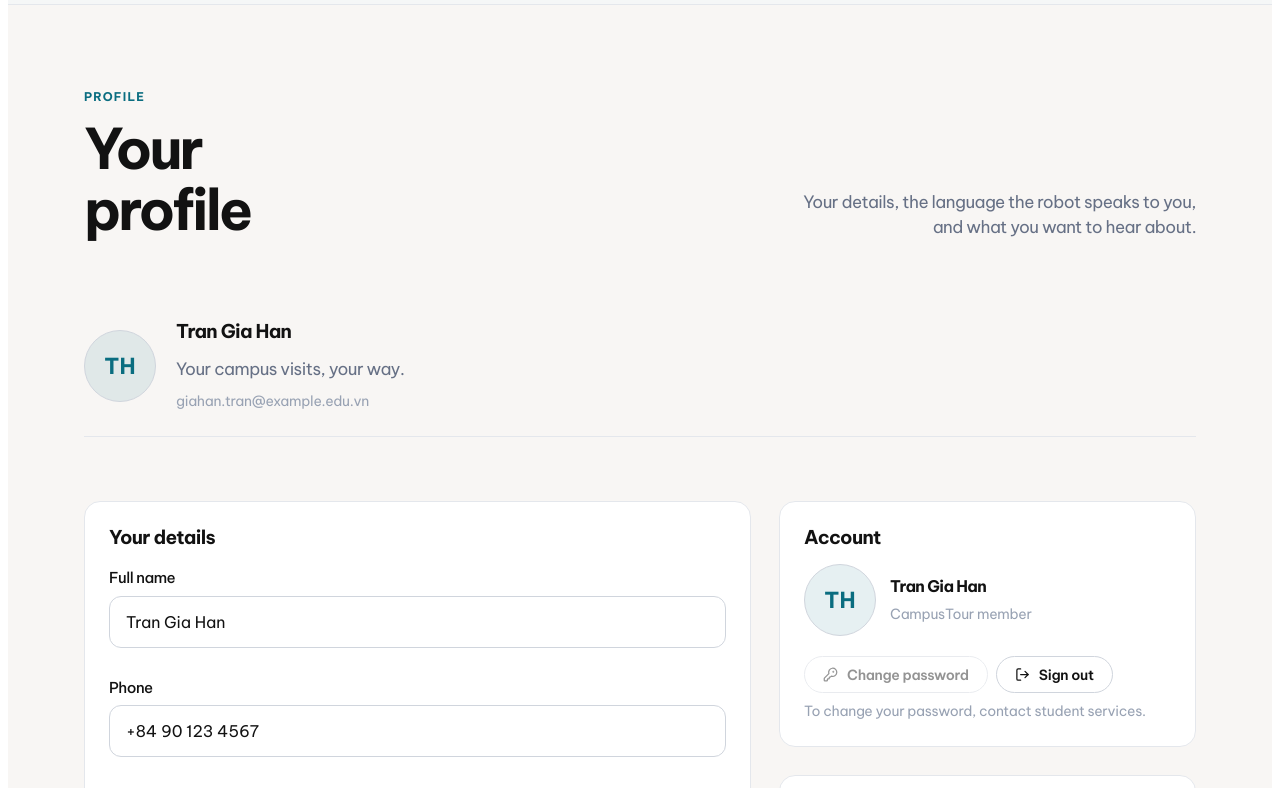
Test: visitor journeys › preserves unsaved profile edits when a notification preference changes
The width and height of the screenshot is (1280, 788).
Replace the text in the field labelled "Full name" with "Campus Visitor" at (418, 622), box x1=109 y1=596 x2=726 y2=648
(page scrolled)
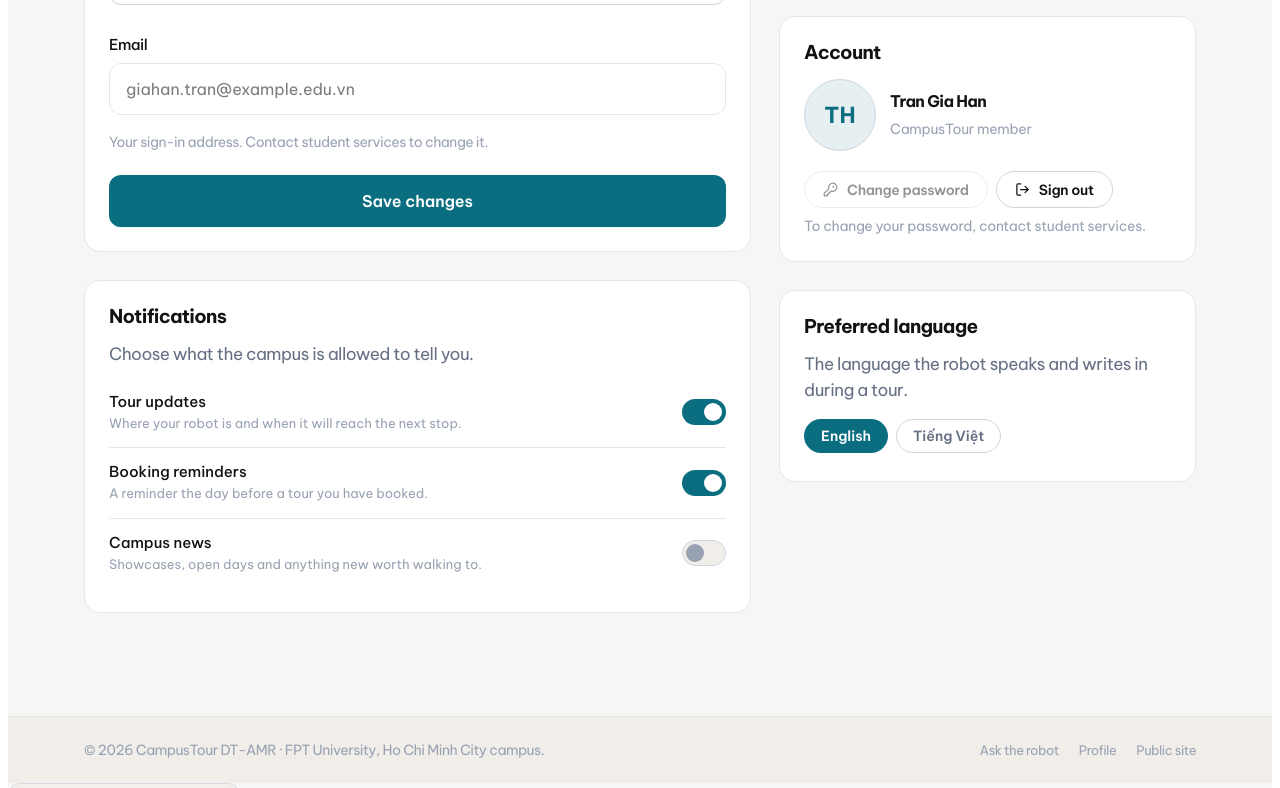
Click the switch labelled "Campus news" at (418, 553), box x1=109 y1=519 x2=726 y2=588
(page scrolled)
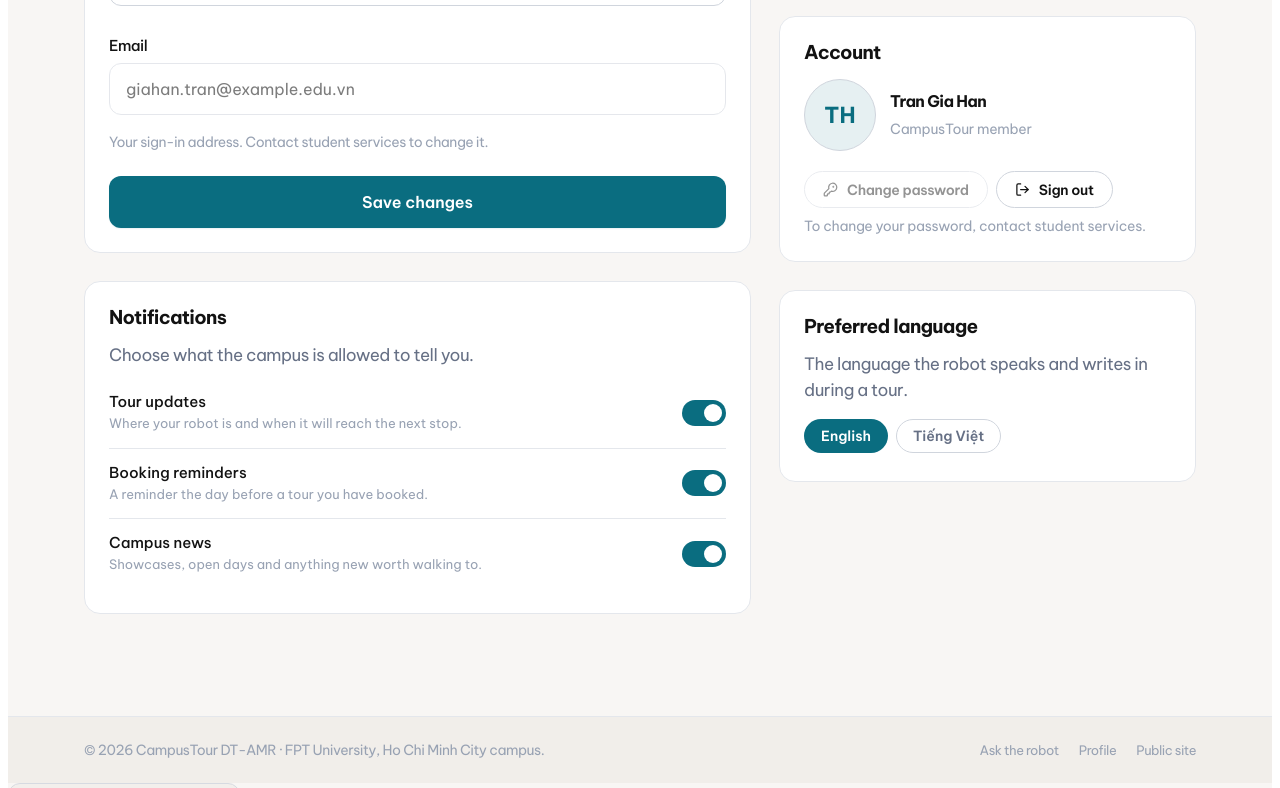
Now the switch labelled "Campus news" is checked, box x1=109 y1=519 x2=726 y2=588
Click the button "Save changes" at (418, 202), box x1=109 y1=176 x2=726 y2=228
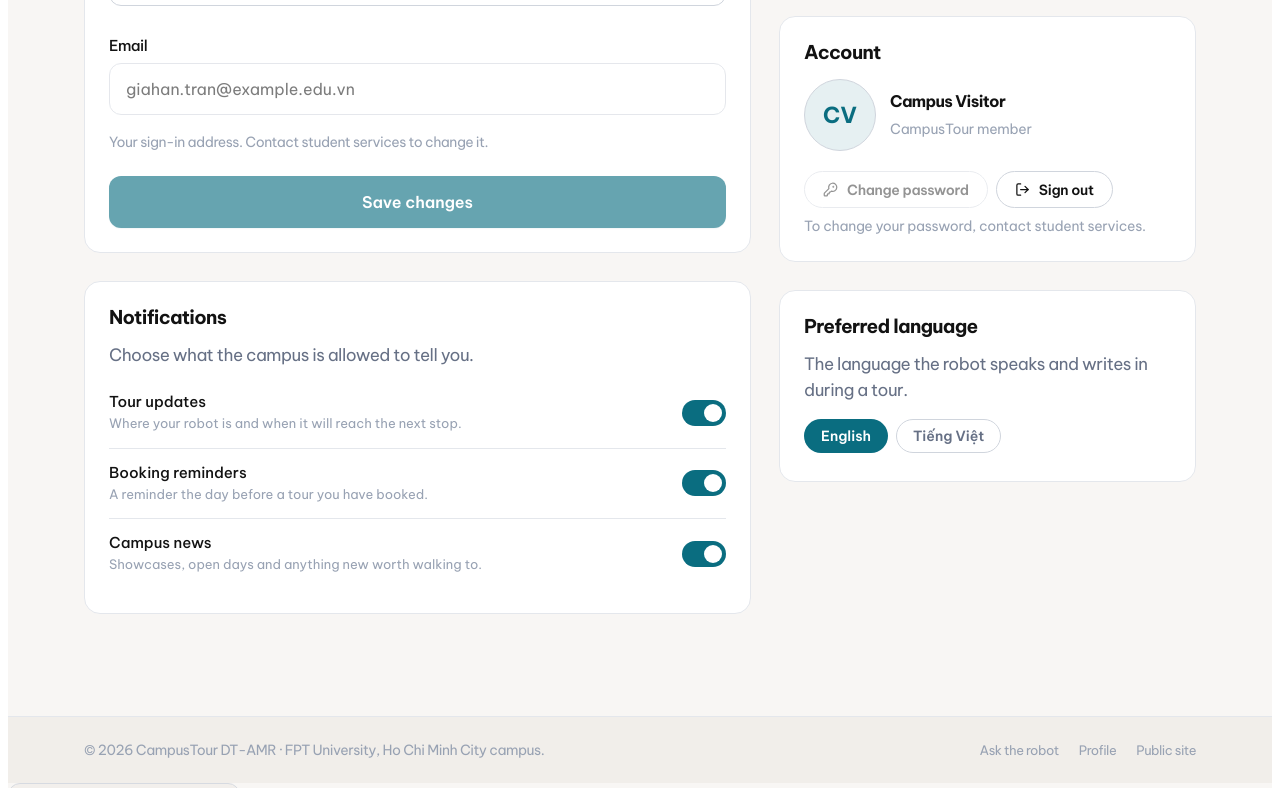
Now the button "Save changes" is disabled, box x1=109 y1=176 x2=726 y2=228
